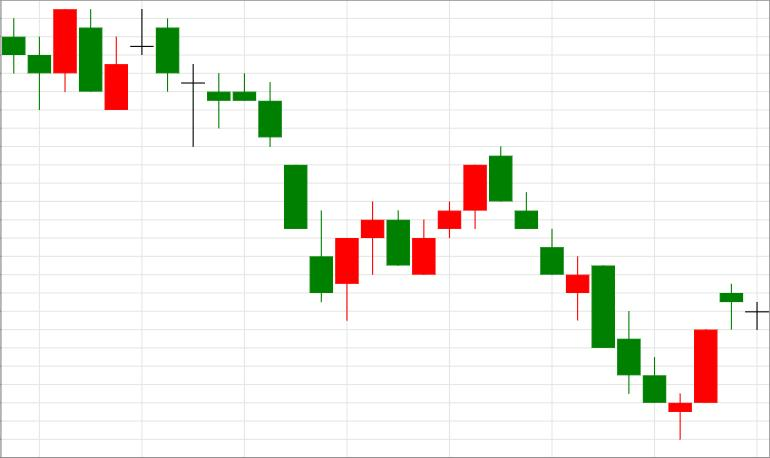inverse_hammer_rise: (156, 18, 333, 302)
morning_star_rise: (489, 146, 718, 440)
